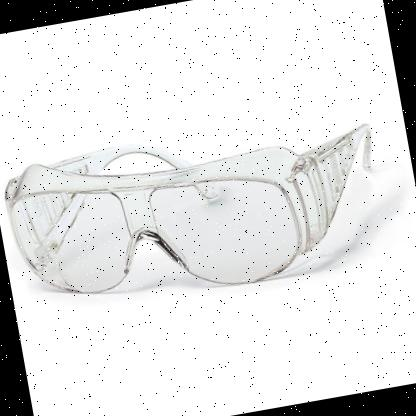oculos: (0, 97, 404, 331)
